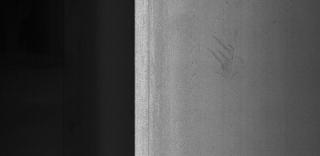water spot: (203, 28, 250, 84)
